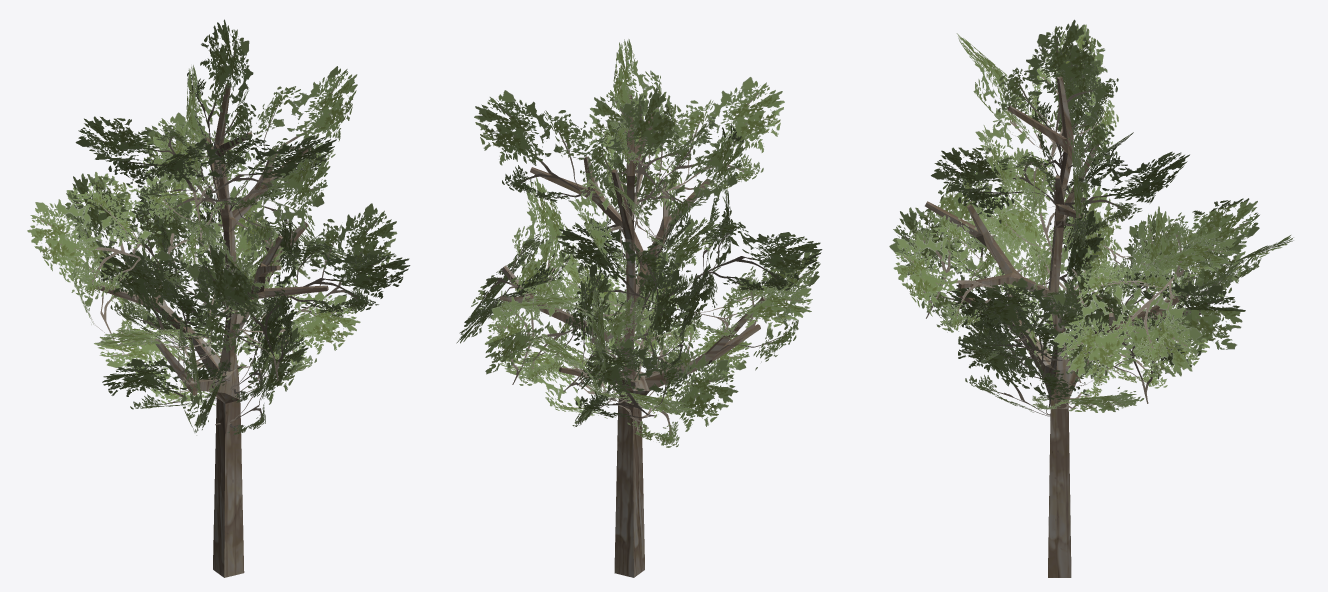
The model's file is arbol_detalle2 .fbx.
The picture shows the model from 3 angles, left to right: view 1: azimuth 30°, elevation 25°; view 2: azimuth 150°, elevation 25°; view 3: azimuth 270°, elevation 25°; orthographic projection. The views are drawn at different scales.
Parts seen in each view (by area): view 1: Plane.002; view 2: Plane.002; view 3: Plane.002.
Boxes of the visible parts, bbox=[...] form: Plane.002: bbox=[27, 19, 410, 577]; Plane.002: bbox=[456, 39, 822, 577]; Plane.002: bbox=[889, 19, 1293, 577].
Bounding box in the file's own units: 1194 × 1816 × 1298.
2 materials, 2 textured.
